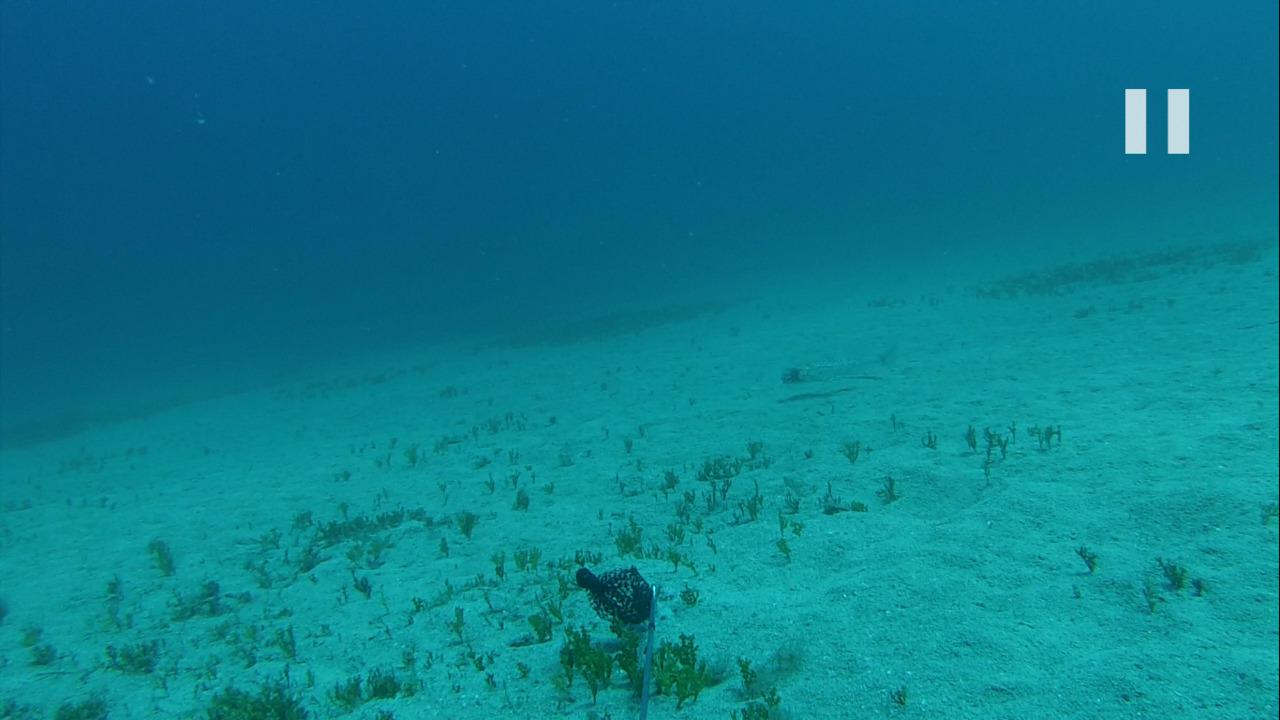dactylopterus: (765, 331, 908, 394)
